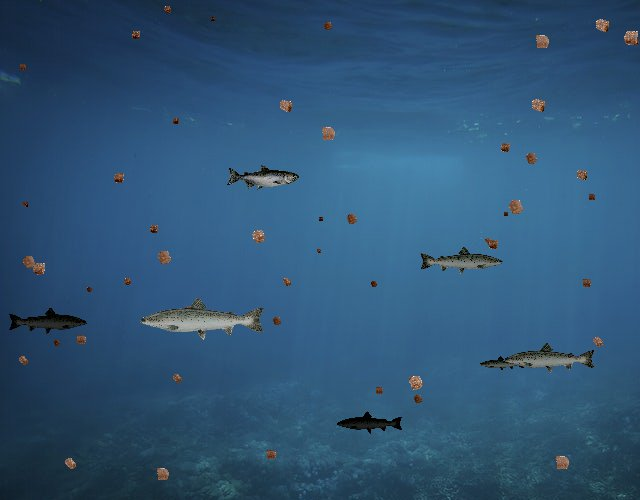Fish: (138, 295, 267, 341), (504, 341, 598, 375), (418, 245, 504, 276), (8, 307, 89, 336), (226, 164, 299, 190), (336, 410, 404, 434), (480, 356, 527, 373)
Pellet: (244, 223, 272, 251), (272, 93, 299, 120), (616, 22, 640, 52), (58, 451, 83, 476), (19, 199, 31, 211)
